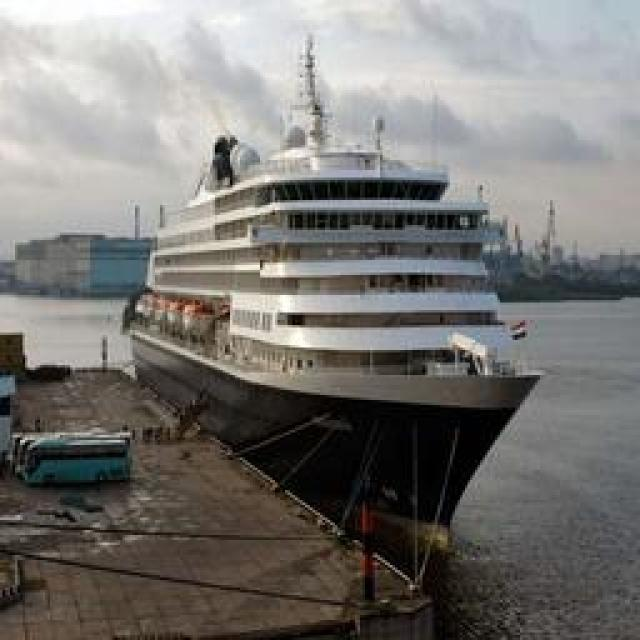ship2: (123, 40, 541, 594)
